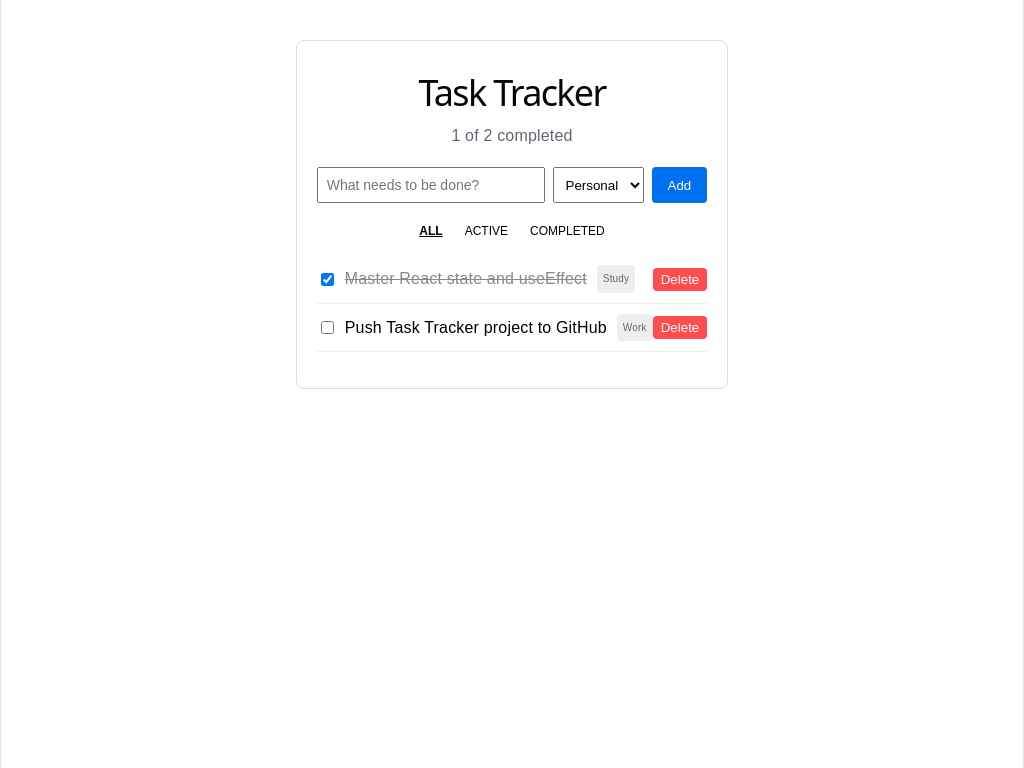
Scenario: Task Tracker App › toggles task completion status when checkbox is clicked
Click checkbox to complete
Click the checkbox labelled "Push Task Tracker project to GitHub Work".
click(327, 327)  # box 321,321 -> 334,334
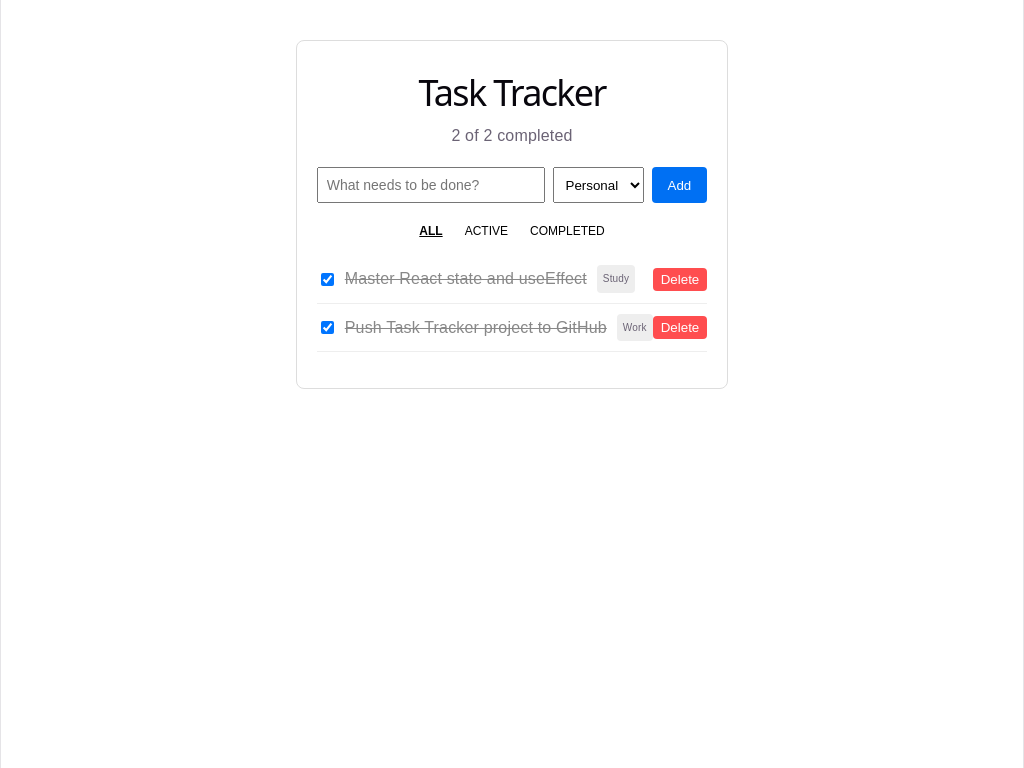
Check: the checkbox labelled "Push Task Tracker project to GitHub Work" is checked, box 321,321 -> 334,334
Check: the text "2 of 2 completed" is shown, box 451,127 -> 573,144
